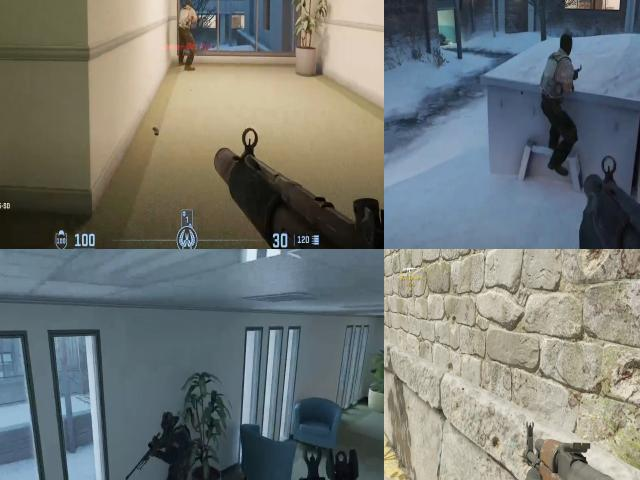CT: (148, 408, 192, 480)
CT-Head: (156, 409, 179, 438)
T: (534, 46, 582, 117), (178, 0, 195, 40)
T-Head: (556, 32, 578, 57), (180, 0, 194, 12)
